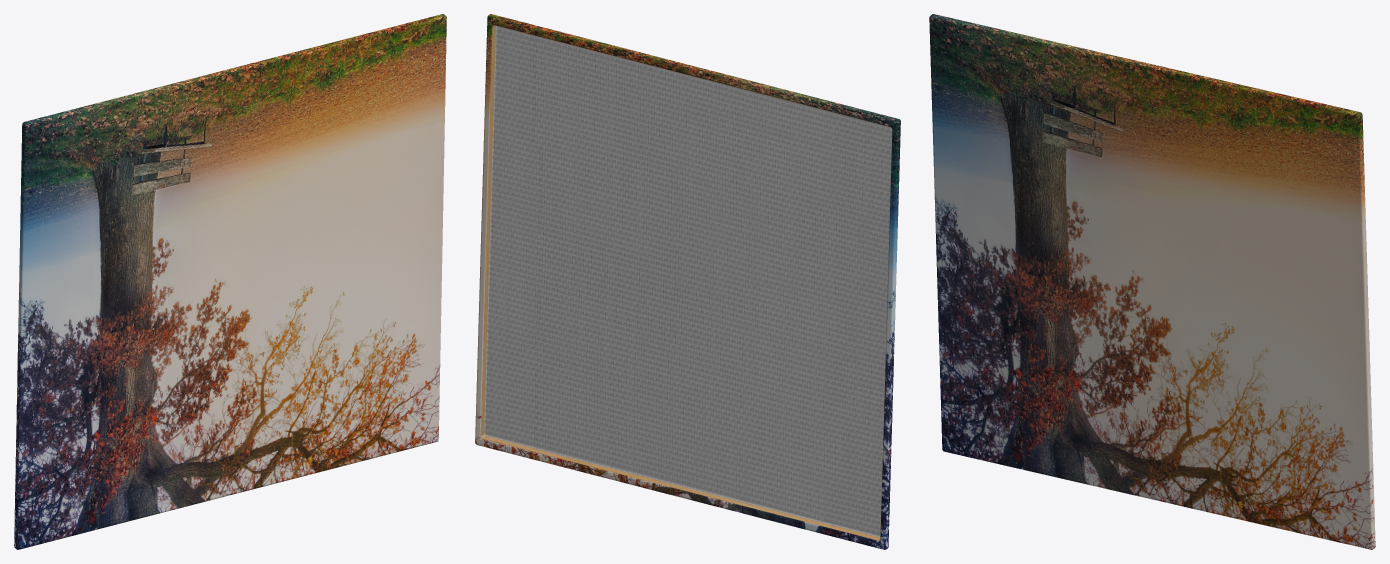
The model's file is canvas_patrat.glb.
3 views of the same model, side by side, from view 1: azimuth 30°, elevation 25°; view 2: azimuth 150°, elevation 25°; view 3: azimuth 330°, elevation 25° (orthographic). The views are drawn at different scales.
Parts seen in each view (by area): view 1: node_id9; view 2: node_id15, node_id9; view 3: node_id9.
Boxes of the visible parts, x1,y1,x2,y2 form: node_id9: [14, 14, 446, 549]; node_id15: [480, 25, 892, 540]; node_id9: [475, 14, 900, 549]; node_id9: [929, 14, 1375, 549].
Bounding box in the file's own units: 0.3939 × 0.3901 × 0.0223.
2 materials, 2 textured.
